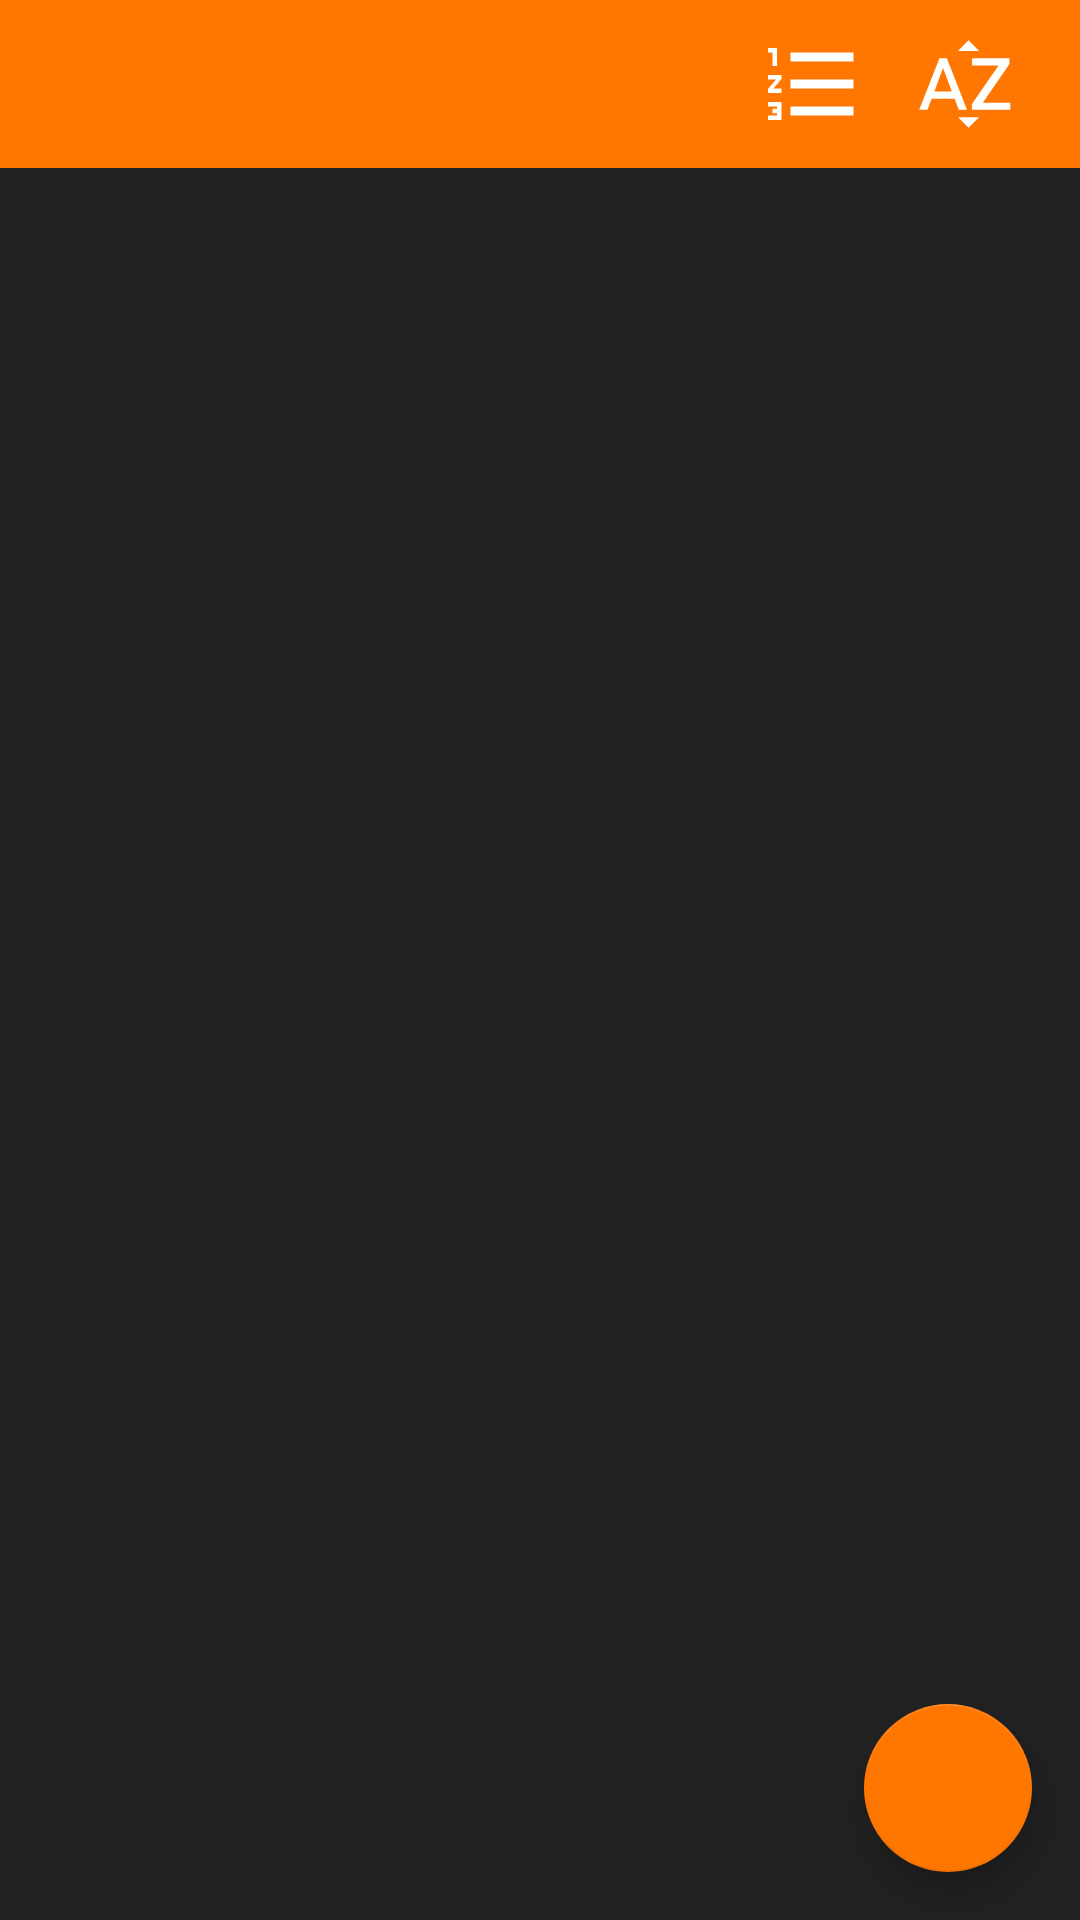

Where icons sit on this 1080 × 1920 app screen, as {"x1": x1, "y1": y1, "x2": x2, "y2": y2}:
format list numbered: {"x1": 768, "y1": 48, "x2": 854, "y2": 120}
sort by: {"x1": 919, "y1": 40, "x2": 1011, "y2": 128}
